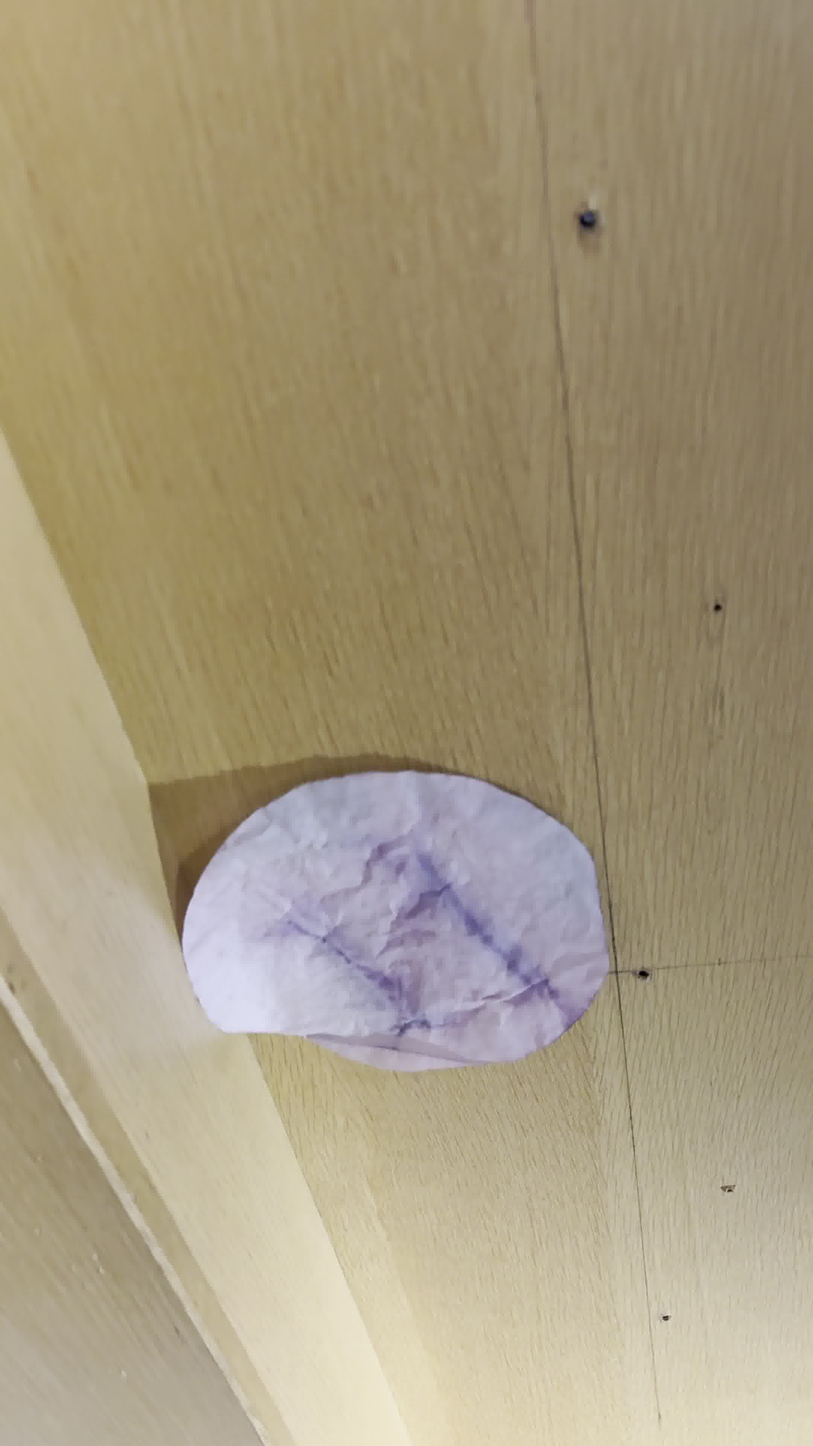Target: (175, 771, 610, 1072)
